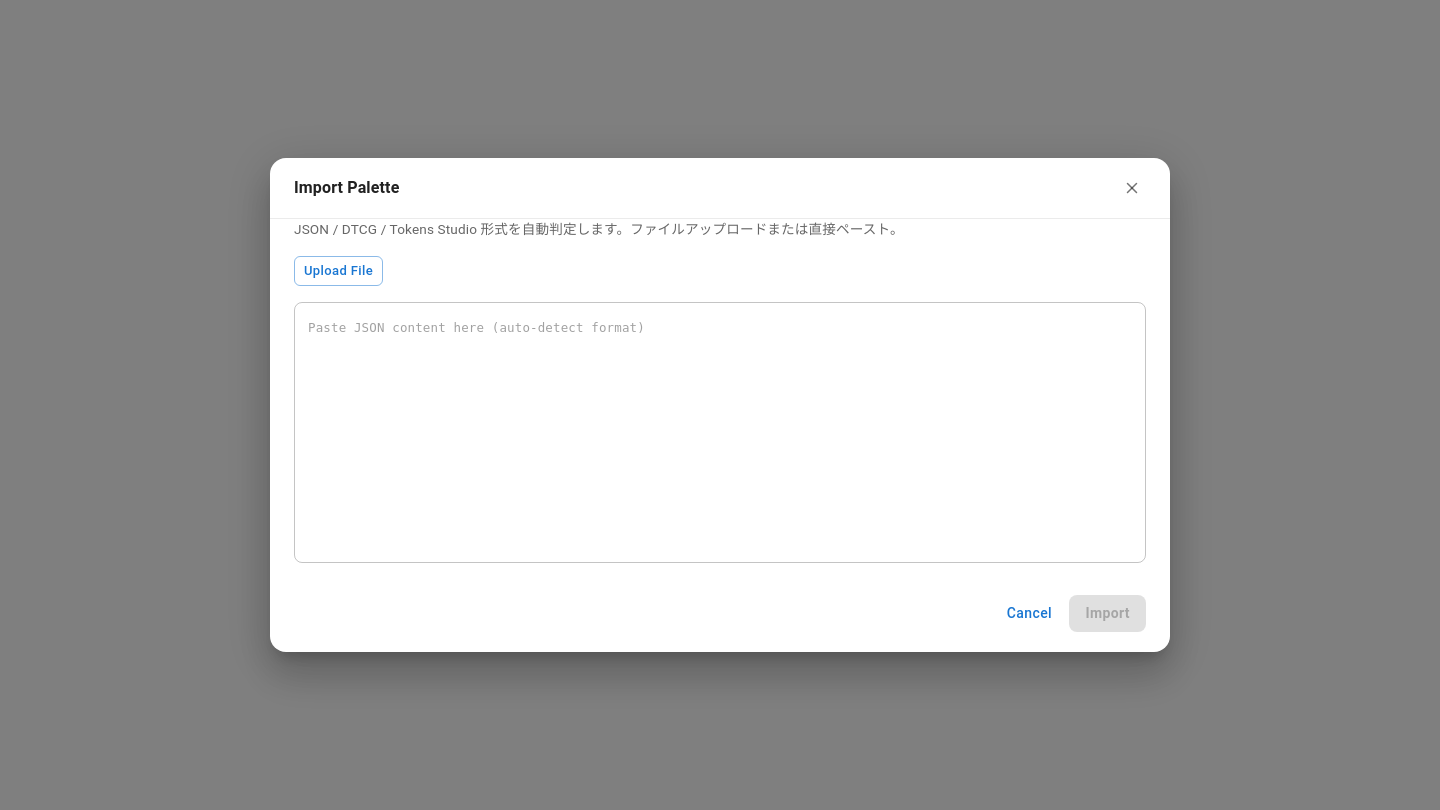
Test: ImportHubDialog › shows error for invalid JSON
Type "not json" into the text box with placeholder "Paste JSON content here (auto-detect format)" at (720, 433), box [308,319,1132,547]
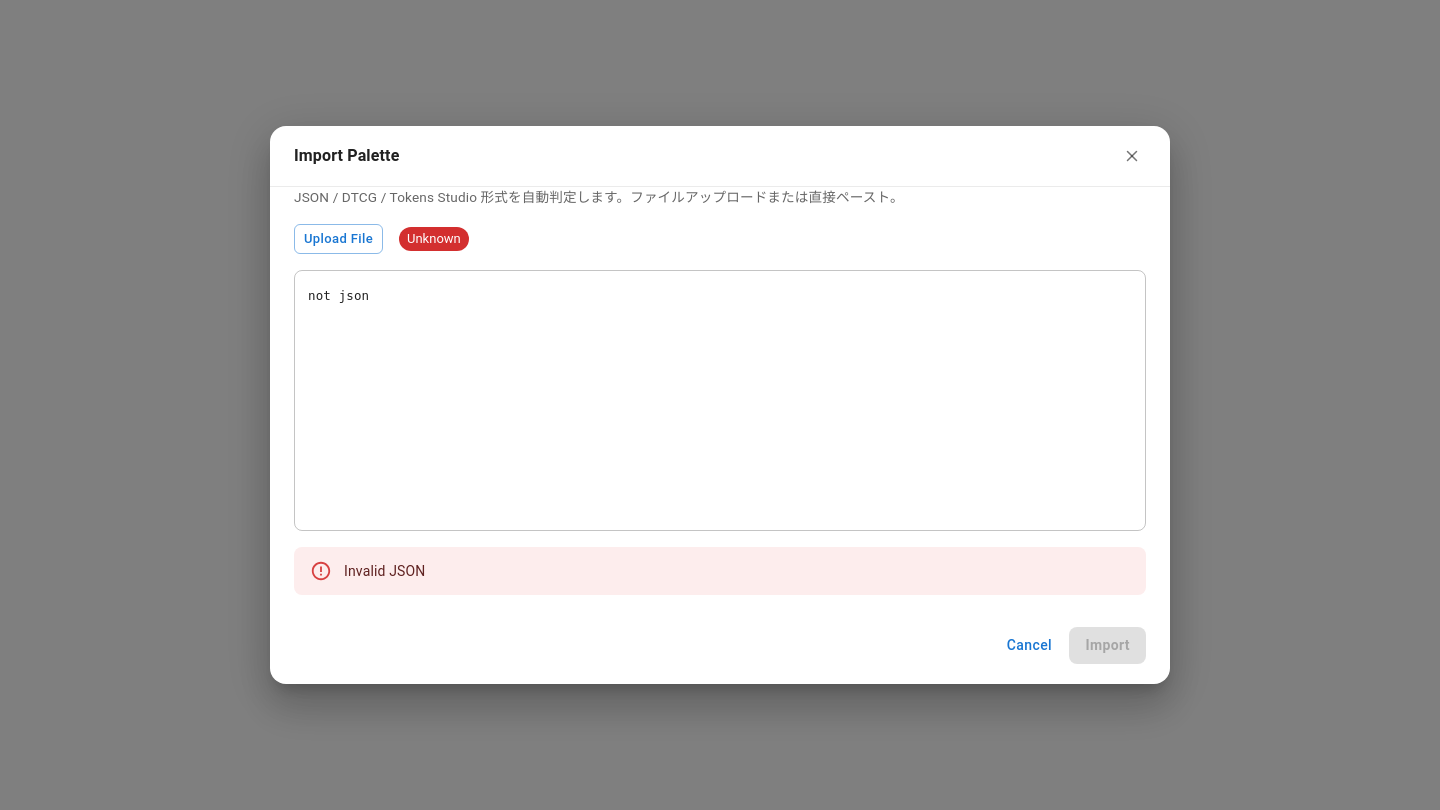
Expected: the text "Invalid JSON" is shown, [344,563,426,579]
Expected: the text "Unknown" is shown, [407,231,461,246]
